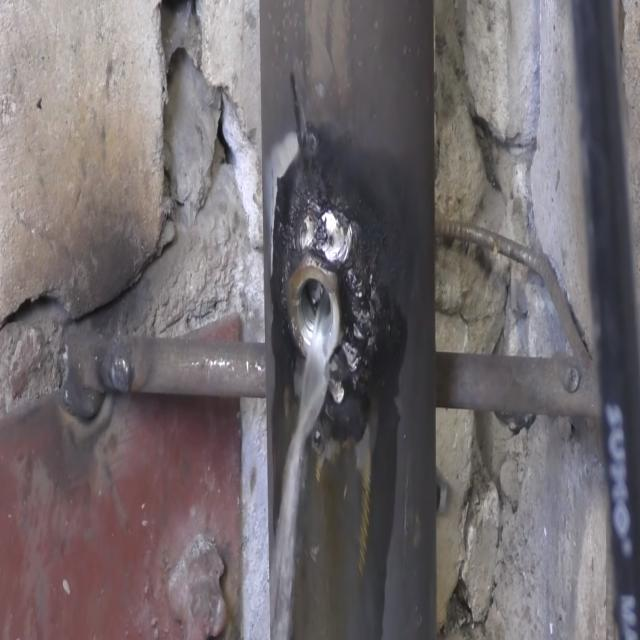leak: (270, 290, 338, 638)
